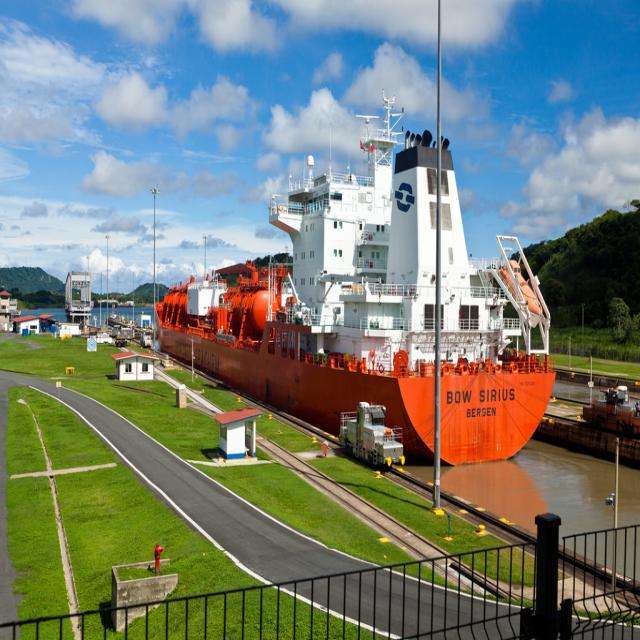Boat: (153, 62, 558, 460), (526, 379, 640, 473)
